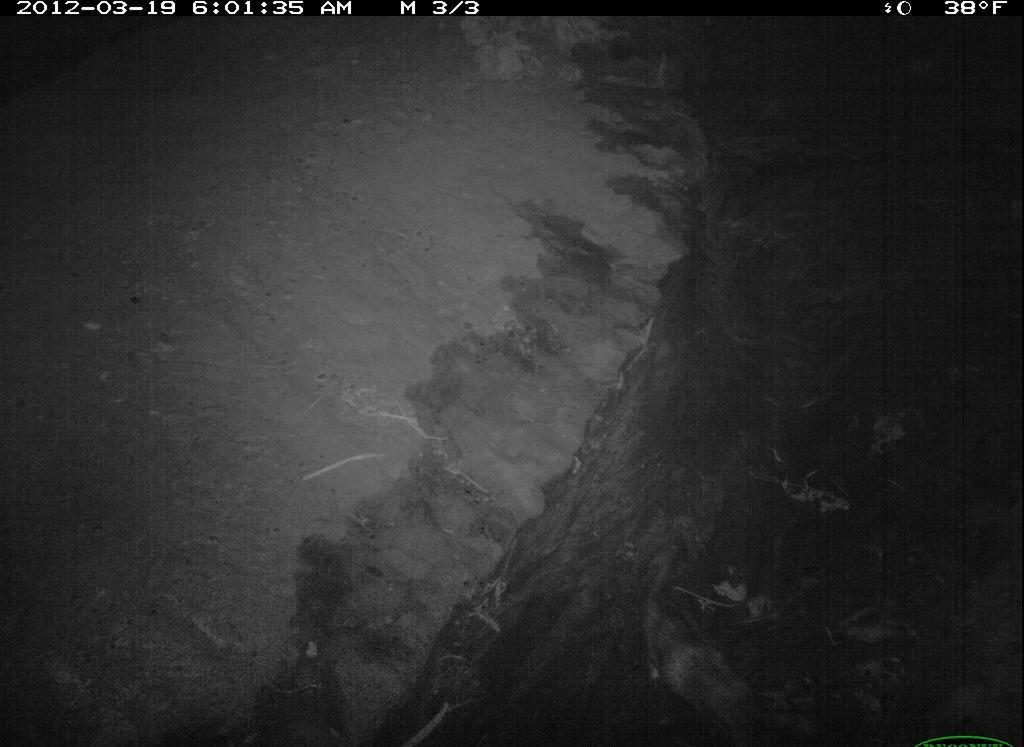cat: (638, 570, 771, 742)
